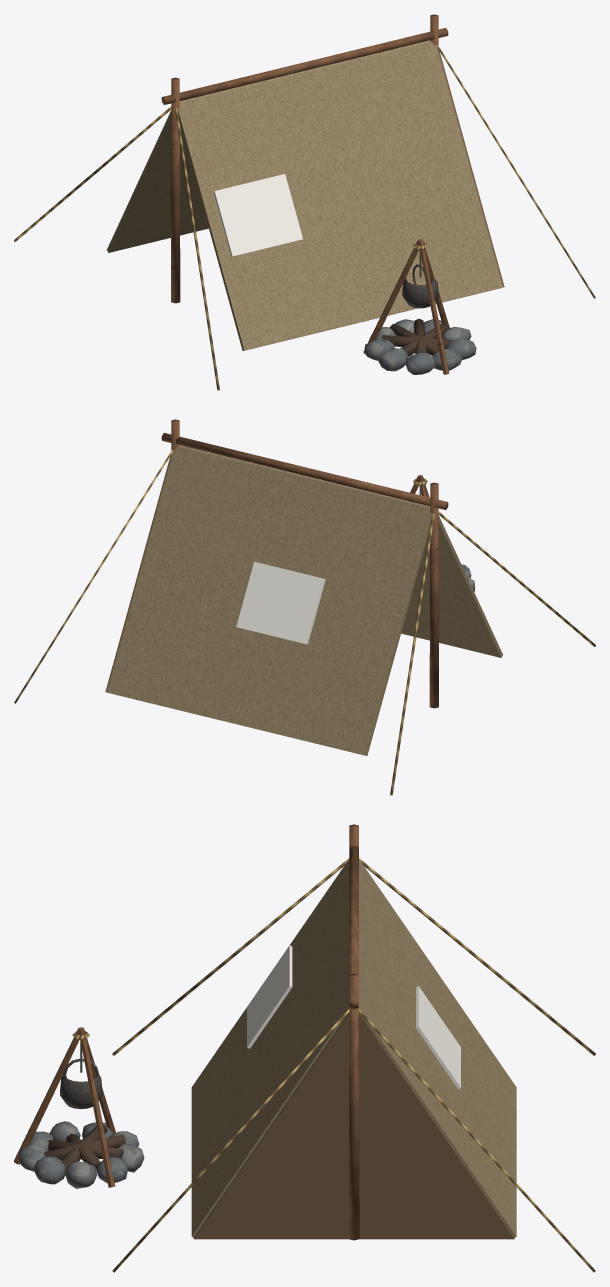
Rendered from patched_tent.glb.
The picture shows the model from 3 angles, top to bottom: view 1: azimuth 30°, elevation 25°; view 2: azimuth 150°, elevation 25°; view 3: azimuth 270°, elevation 25°; orthographic projection. The views are drawn at different scales.
Visible parts, largest first — view 1: patched_tent_tent_sheets, patched_tent_poles, patched_tent_camp; view 2: patched_tent_tent_sheets, patched_tent_poles; view 3: patched_tent_tent_sheets, patched_tent_camp, patched_tent_poles.
Part boxes in pixels (bbox=[...]): patched_tent_tent_sheets: bbox=[107, 40, 504, 350]; patched_tent_poles: bbox=[14, 14, 595, 390]; patched_tent_camp: bbox=[363, 239, 476, 374]; patched_tent_tent_sheets: bbox=[105, 445, 502, 755]; patched_tent_poles: bbox=[14, 419, 595, 795]; patched_tent_tent_sheets: bbox=[191, 859, 516, 1239]; patched_tent_camp: bbox=[14, 1027, 144, 1188]; patched_tent_poles: bbox=[112, 824, 595, 1272].
Size of what is drawn, in the model's own units: 3.22 by 1.83 by 3.63.
Materials: 8 (8 with a texture image).
